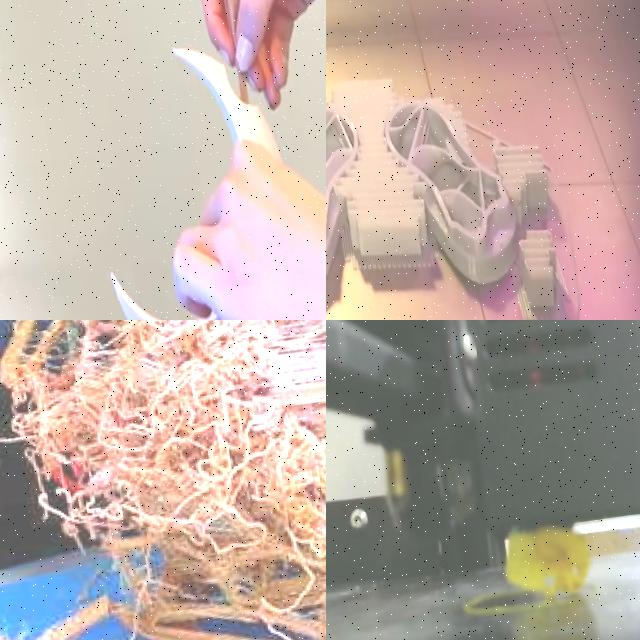spaghetti: (0, 320, 326, 640), (498, 518, 606, 604)
